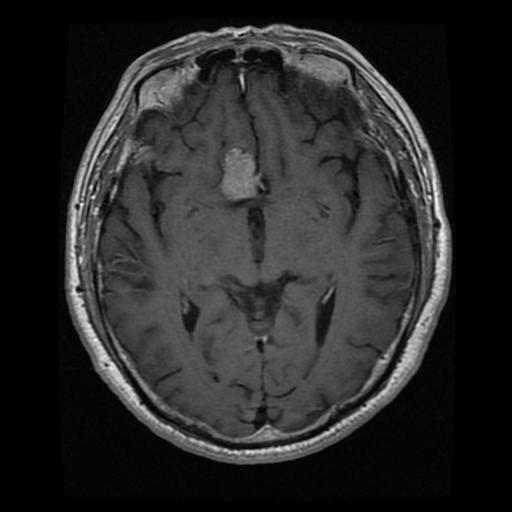Tumour-Pituitary: (217, 149, 269, 201)
